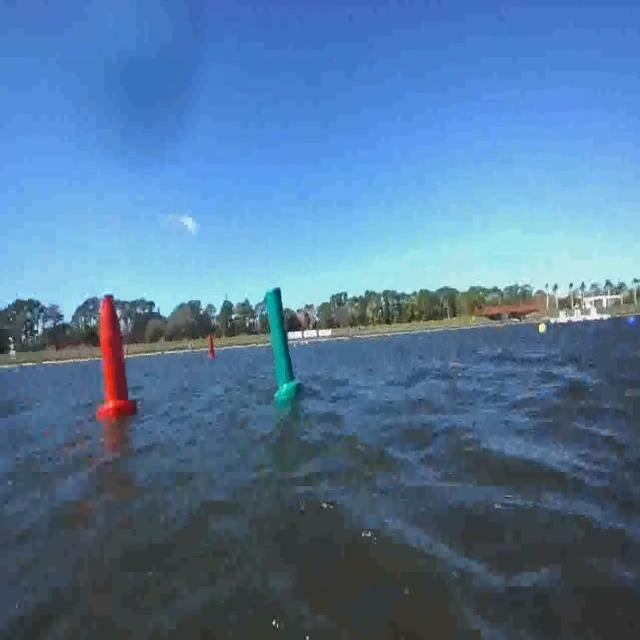blue-buoy: (628, 314, 639, 331)
green-column-buoy: (264, 284, 302, 399)
red-column-buoy: (99, 292, 138, 419), (209, 336, 216, 361)
yellow-buoy: (537, 320, 546, 336)
